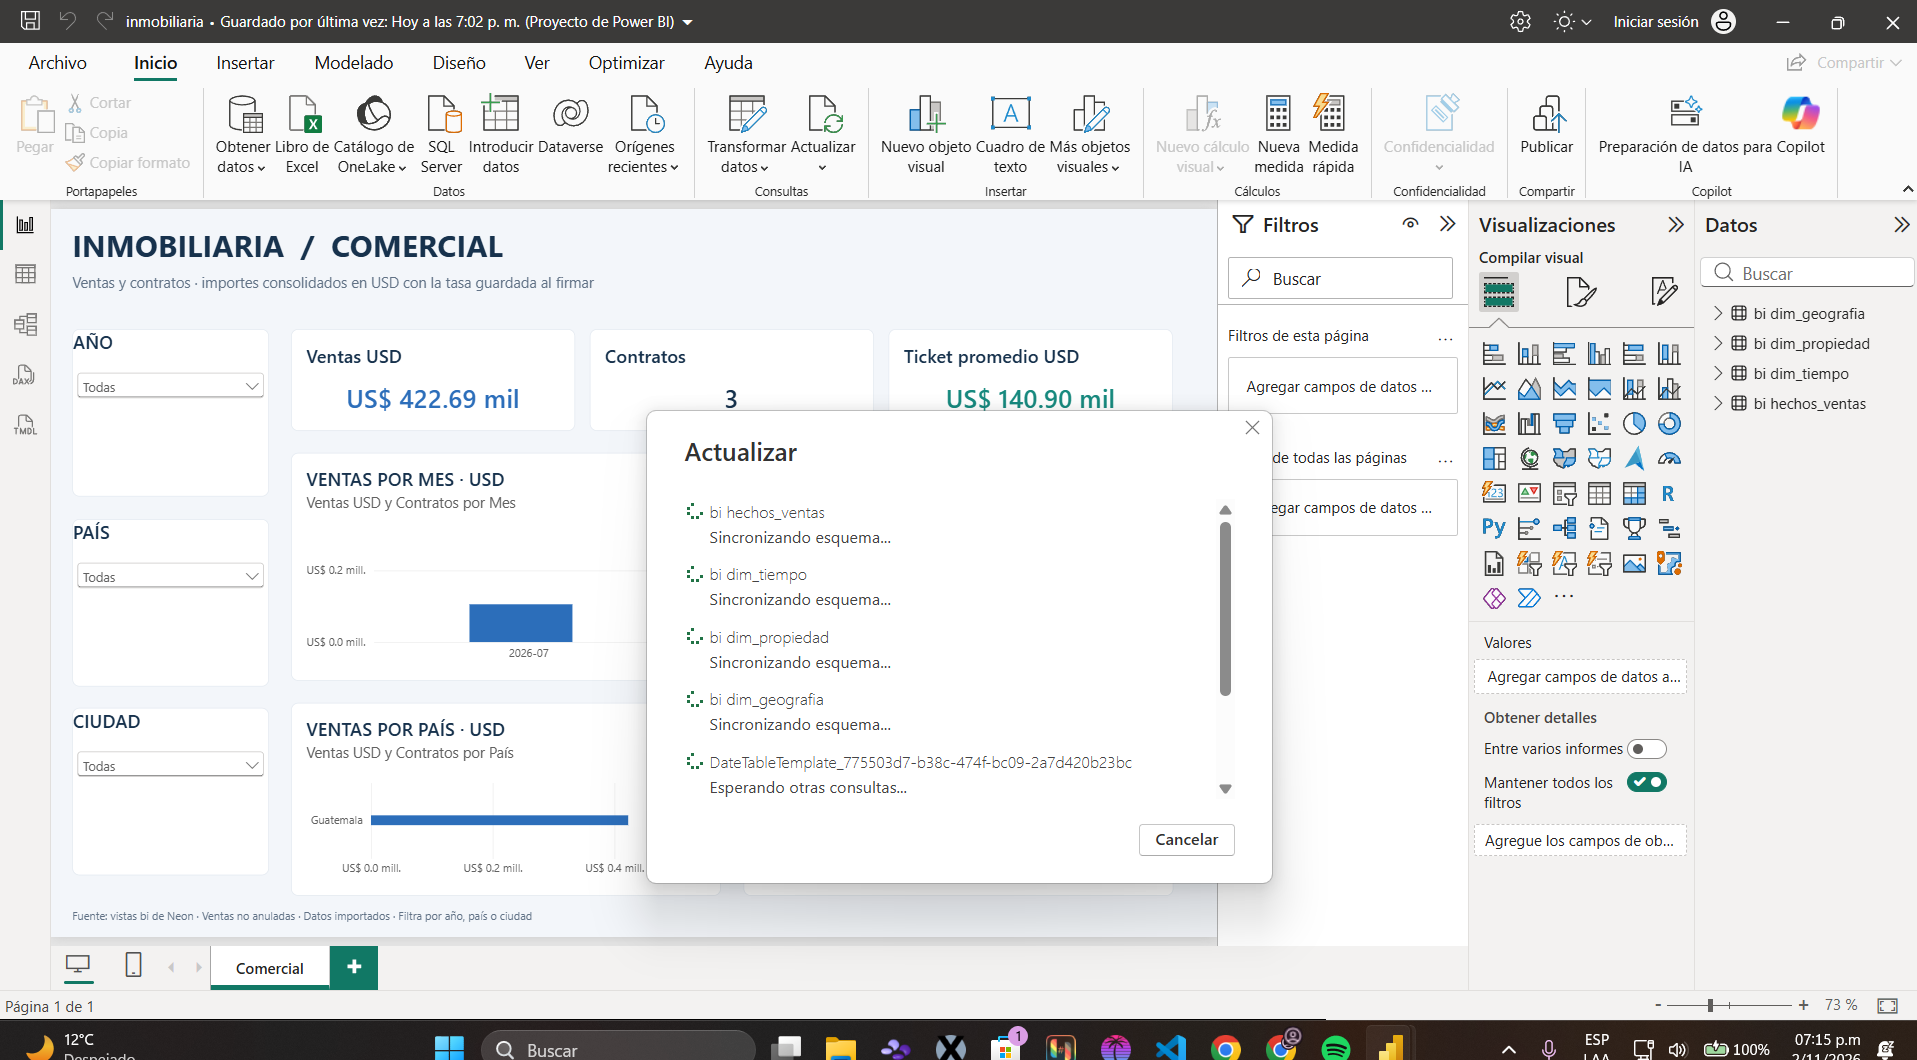

The page's visual inventory and layout, read from the dashboard file:
{"tool":"powerbi","page":{"name":"Comercial","canvas":[1280,800],"ordinal":0},"visuals":[{"type":"textbox","box":[24,16,1120,50],"z":0},{"type":"textbox","box":[24,68,1216,40],"z":1000},{"type":"card","title":"Ventas USD","fields":{"Values":["bi hechos_ventas.Ventas USD"]},"box":[264,132,312,112],"z":2000},{"type":"card","title":"Contratos","fields":{"Values":["bi hechos_ventas.Contratos"]},"box":[592,132,312,112],"z":3000},{"type":"card","title":"Ticket promedio USD","fields":{"Values":["bi hechos_ventas.Ticket promedio USD"]},"box":[920,132,312,112],"z":4000},{"type":"clusteredColumnChart","title":"VENTAS POR MES · USD","fields":{"Category":["bi dim_tiempo.anio_mes"],"Y":["bi hechos_ventas.Ventas USD"]},"box":[263.5,255.2,968,250],"z":5000},{"type":"clusteredBarChart","title":"VENTAS POR PAÍS · USD","fields":{"Category":["bi dim_geografia.pais"],"Y":["bi hechos_ventas.Ventas USD"]},"box":[264,542,472,212],"z":6000},{"type":"clusteredBarChart","title":"VENTAS POR TIPO DE PROPIEDAD · USD","fields":{"Category":["bi dim_propiedad.tipo"],"Y":["bi hechos_ventas.Ventas USD"]},"box":[760,542,472,212],"z":7000},{"type":"slicer","title":"AÑO","fields":{"Values":["bi dim_tiempo.anio"]},"box":[24,132,216,184],"z":8000},{"type":"slicer","title":"PAÍS","fields":{"Values":["bi dim_geografia.pais"]},"box":[24,340,216,184],"z":9000},{"type":"slicer","title":"CIUDAD","fields":{"Values":["bi dim_geografia.ciudad"]},"box":[24,548,216,184],"z":10000},{"type":"textbox","box":[24,766,1216,26],"z":11000}]}

Visuals, with their boxes in screenshot pixels (x1, y1, x2, y2):
textbox: 76/36/1537/101
textbox: 76/104/1663/156
"Ventas USD" card: 389/187/796/333
"Contratos" card: 817/187/1224/333
"Ticket promedio USD" card: 1245/187/1652/333
"VENTAS POR MES · USD" clusteredColumnChart: 389/348/1652/674
"VENTAS POR PAÍS · USD" clusteredBarChart: 389/722/1005/999
"VENTAS POR TIPO DE PROPIEDAD · USD" clusteredBarChart: 1036/722/1652/999
"AÑO" slicer: 76/187/358/427
"PAÍS" slicer: 76/459/358/699
"CIUDAD" slicer: 76/730/358/970
textbox: 76/1014/1663/1048
